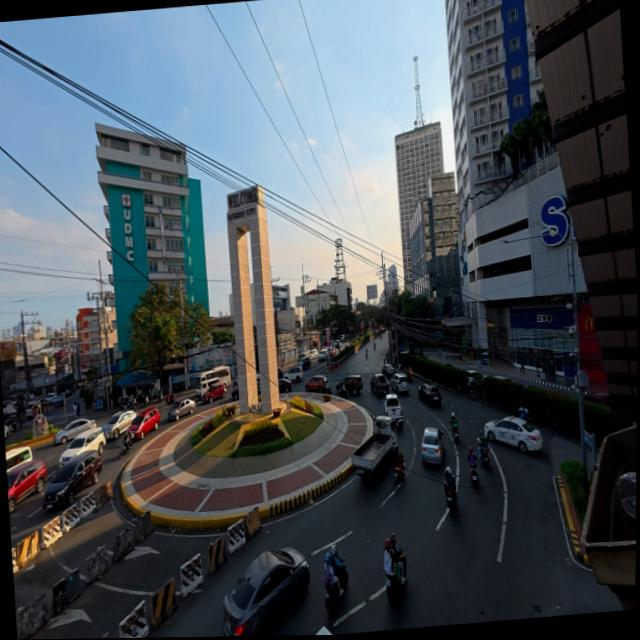bus: (197, 366, 230, 386)
car: (223, 548, 310, 636), (42, 451, 102, 508), (7, 459, 47, 513), (485, 416, 542, 452), (60, 428, 106, 467), (54, 419, 95, 444), (129, 408, 160, 441), (102, 411, 136, 439), (422, 428, 444, 464), (168, 399, 195, 420), (336, 375, 363, 395), (418, 384, 442, 405), (369, 373, 390, 397), (203, 383, 227, 403), (390, 373, 409, 393), (584, 392, 610, 406), (305, 375, 326, 392), (284, 366, 303, 382), (467, 370, 484, 387), (26, 401, 41, 419), (278, 378, 292, 393), (382, 364, 395, 378), (298, 355, 311, 369), (493, 375, 514, 382), (306, 349, 318, 360), (317, 349, 327, 362), (231, 385, 239, 401), (44, 393, 56, 403), (277, 367, 283, 379), (65, 389, 72, 397)
motorcycle: (386, 547, 407, 604), (331, 545, 349, 590), (117, 431, 133, 459), (393, 452, 405, 483), (444, 483, 456, 511), (478, 437, 490, 464), (521, 409, 533, 424), (151, 390, 164, 403), (470, 467, 478, 485), (166, 392, 175, 404), (453, 427, 459, 441), (340, 390, 348, 399), (324, 385, 332, 394), (408, 375, 413, 383), (374, 343, 375, 350)
trucks: (352, 417, 397, 477), (383, 392, 403, 427)
vans: (5, 445, 33, 471), (196, 378, 221, 399)
